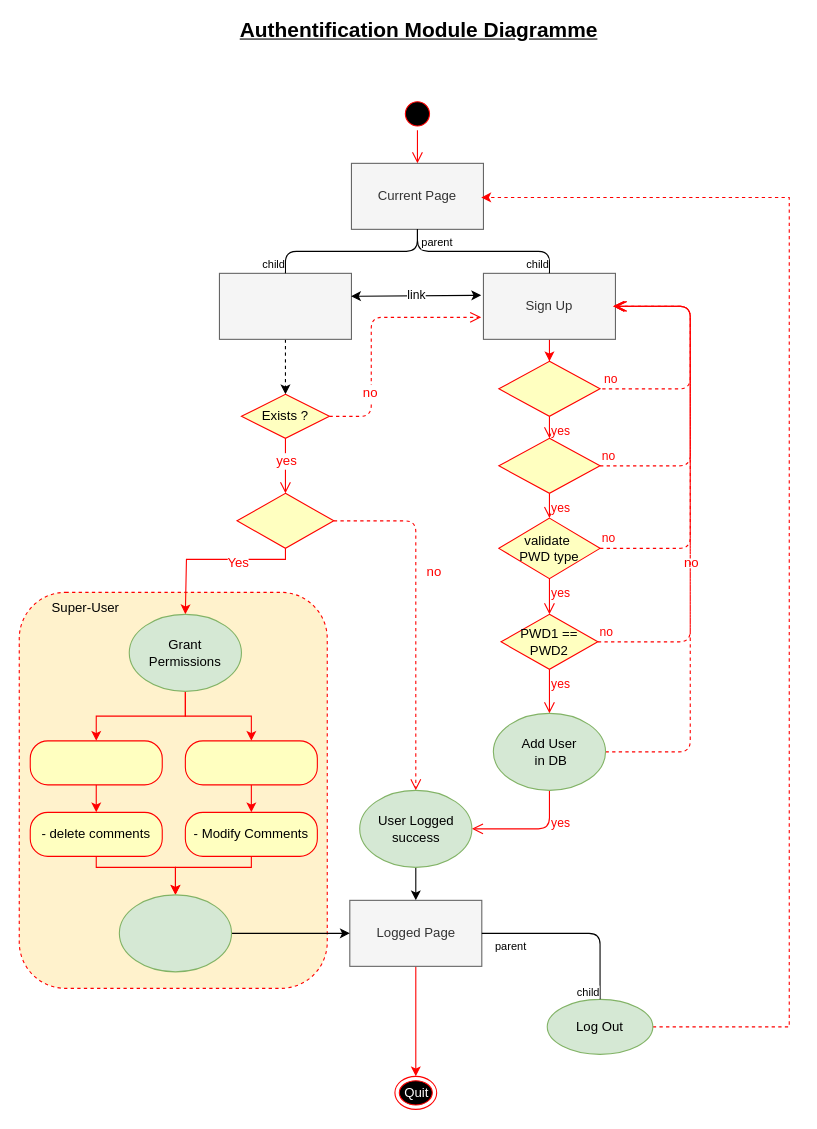
Some shapes in this 817 by 1129 pixel diagram are drawn without their labels. Each missing label, with the centre of its shape:
- delete Courses: [95,762]
- Validate Courses: [250,762]
Sign In: [284,305]
Specific ID super- User: [175,933]
Super- user Id ?: [285,520]
username unique ?: [549,388]
Validate Email: [549,465]
